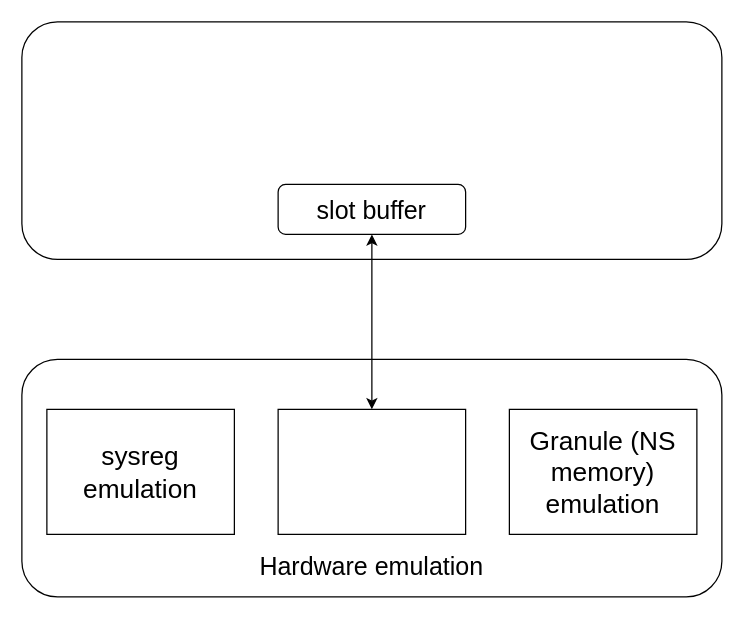
The diagram is 744 pixels wide and 619 high, and some of its shapes have lost their labels. Each missing label, with the box of its shape:
High VA emulation: (277, 408, 466, 534)
RMM (arch-independent): (21, 21, 722, 259)
